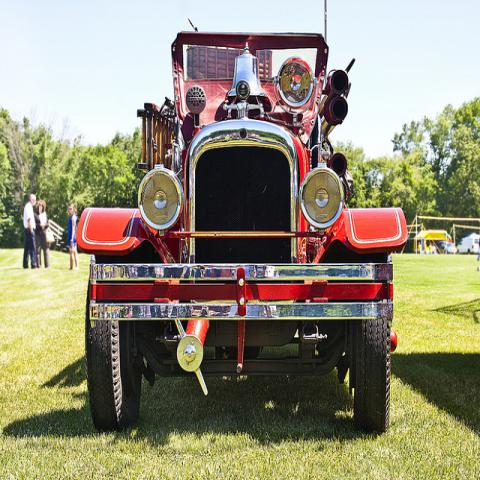car: (456, 235, 479, 256), (438, 244, 456, 254)
truck: (75, 32, 409, 432)
